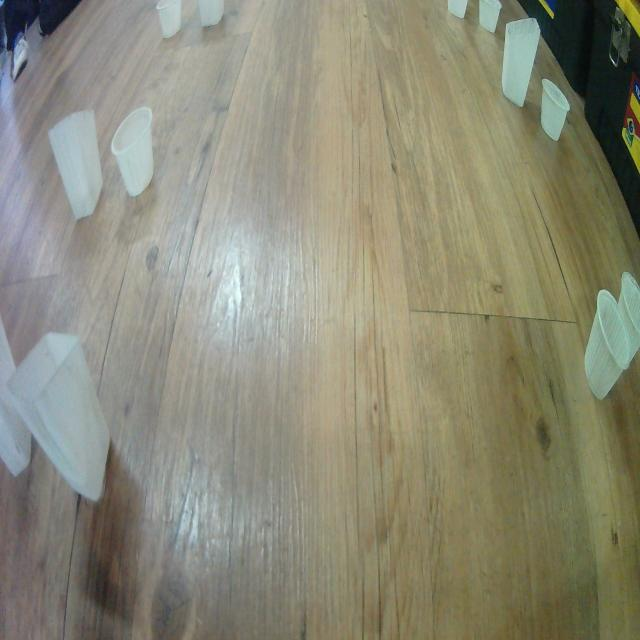erva_daninha: (8, 330, 112, 504), (48, 108, 102, 222), (0, 314, 33, 479), (502, 17, 542, 109), (196, 0, 224, 27)
planta: (584, 290, 632, 401), (111, 106, 154, 198), (540, 78, 570, 142), (618, 271, 640, 357), (156, 0, 182, 39), (478, 0, 502, 33), (446, 0, 468, 19)
